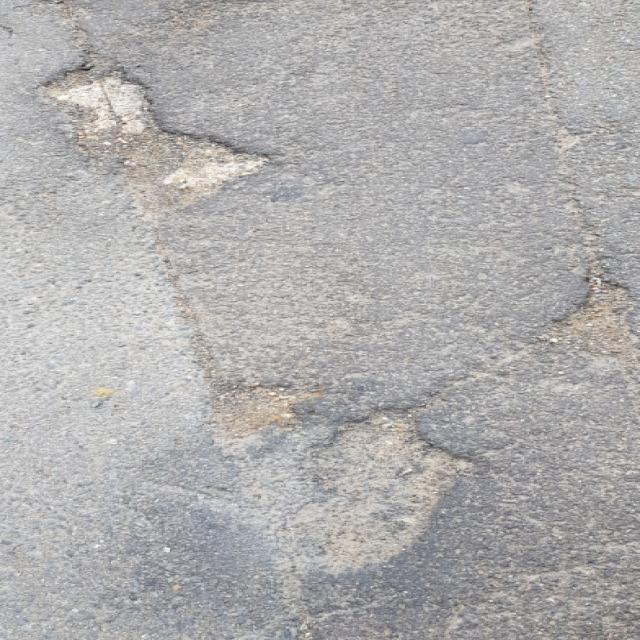Pothole: (30, 53, 283, 217), (282, 396, 480, 582)
